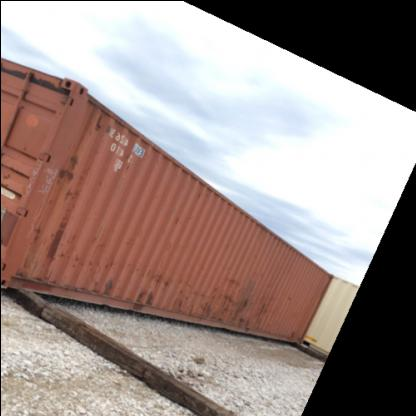Damage: (212, 270, 260, 314), (52, 154, 86, 198), (42, 216, 72, 257), (126, 273, 164, 303), (165, 290, 213, 312), (85, 268, 115, 292), (256, 295, 278, 317)
